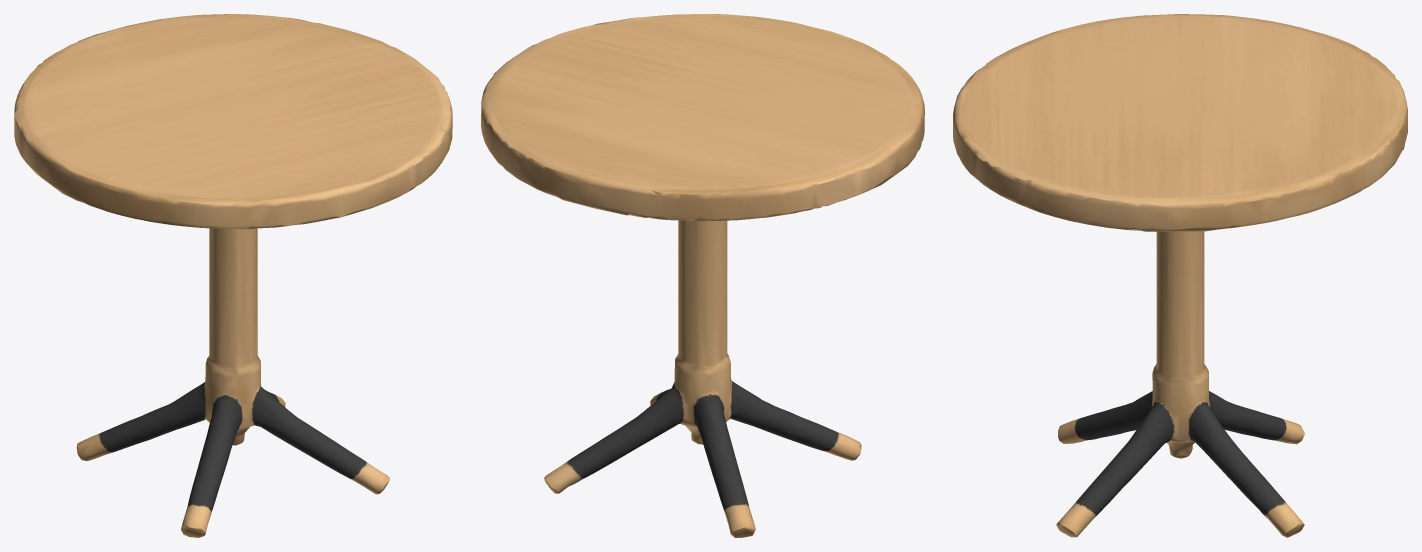
The model's file is cafe_table.glb.
3 renders of one model, left to right at view 1: azimuth 30°, elevation 25°; view 2: azimuth 150°, elevation 25°; view 3: azimuth 270°, elevation 25°, orthographic. The views are drawn at different scales.
Parts seen in each view (by area): view 1: body; view 2: body; view 3: body.
Part boxes in pixels (x1,y1,x2,y2): body: (14,14,452,537); body: (481,14,924,537); body: (953,14,1407,537).
Size of the model in its own units: 0.7995 by 0.7482 by 0.7998.
1 material, 1 textured.
